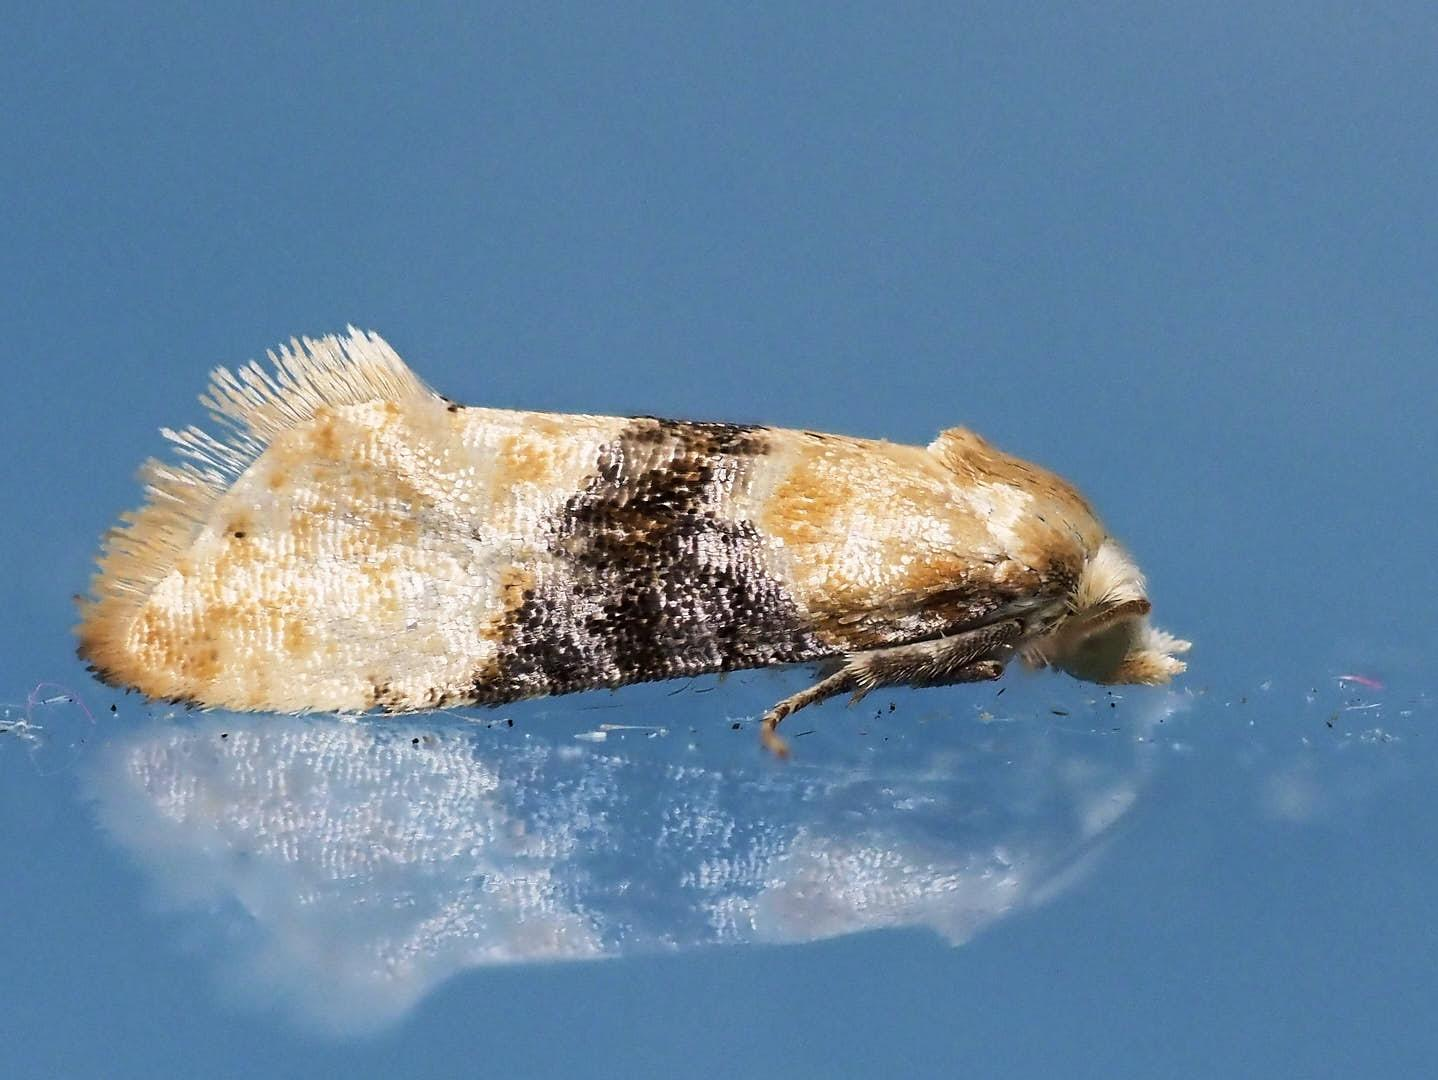Eupoecilia Ambiguella: (70, 322, 1191, 751)
